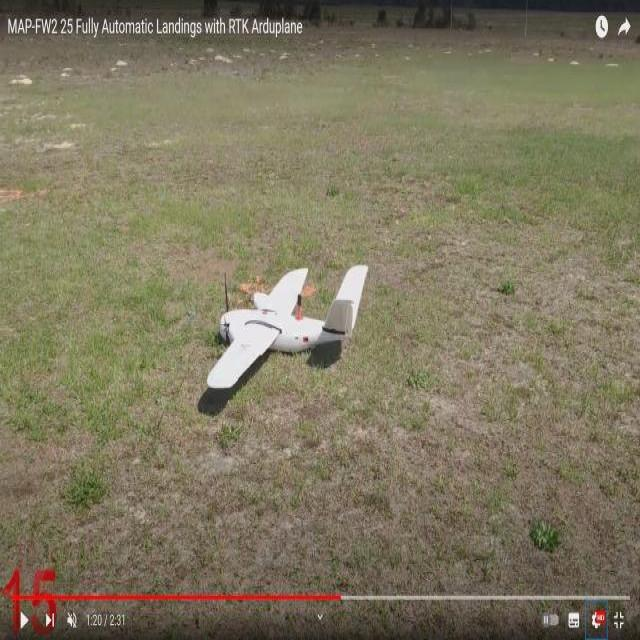iha: (193, 254, 384, 395)
